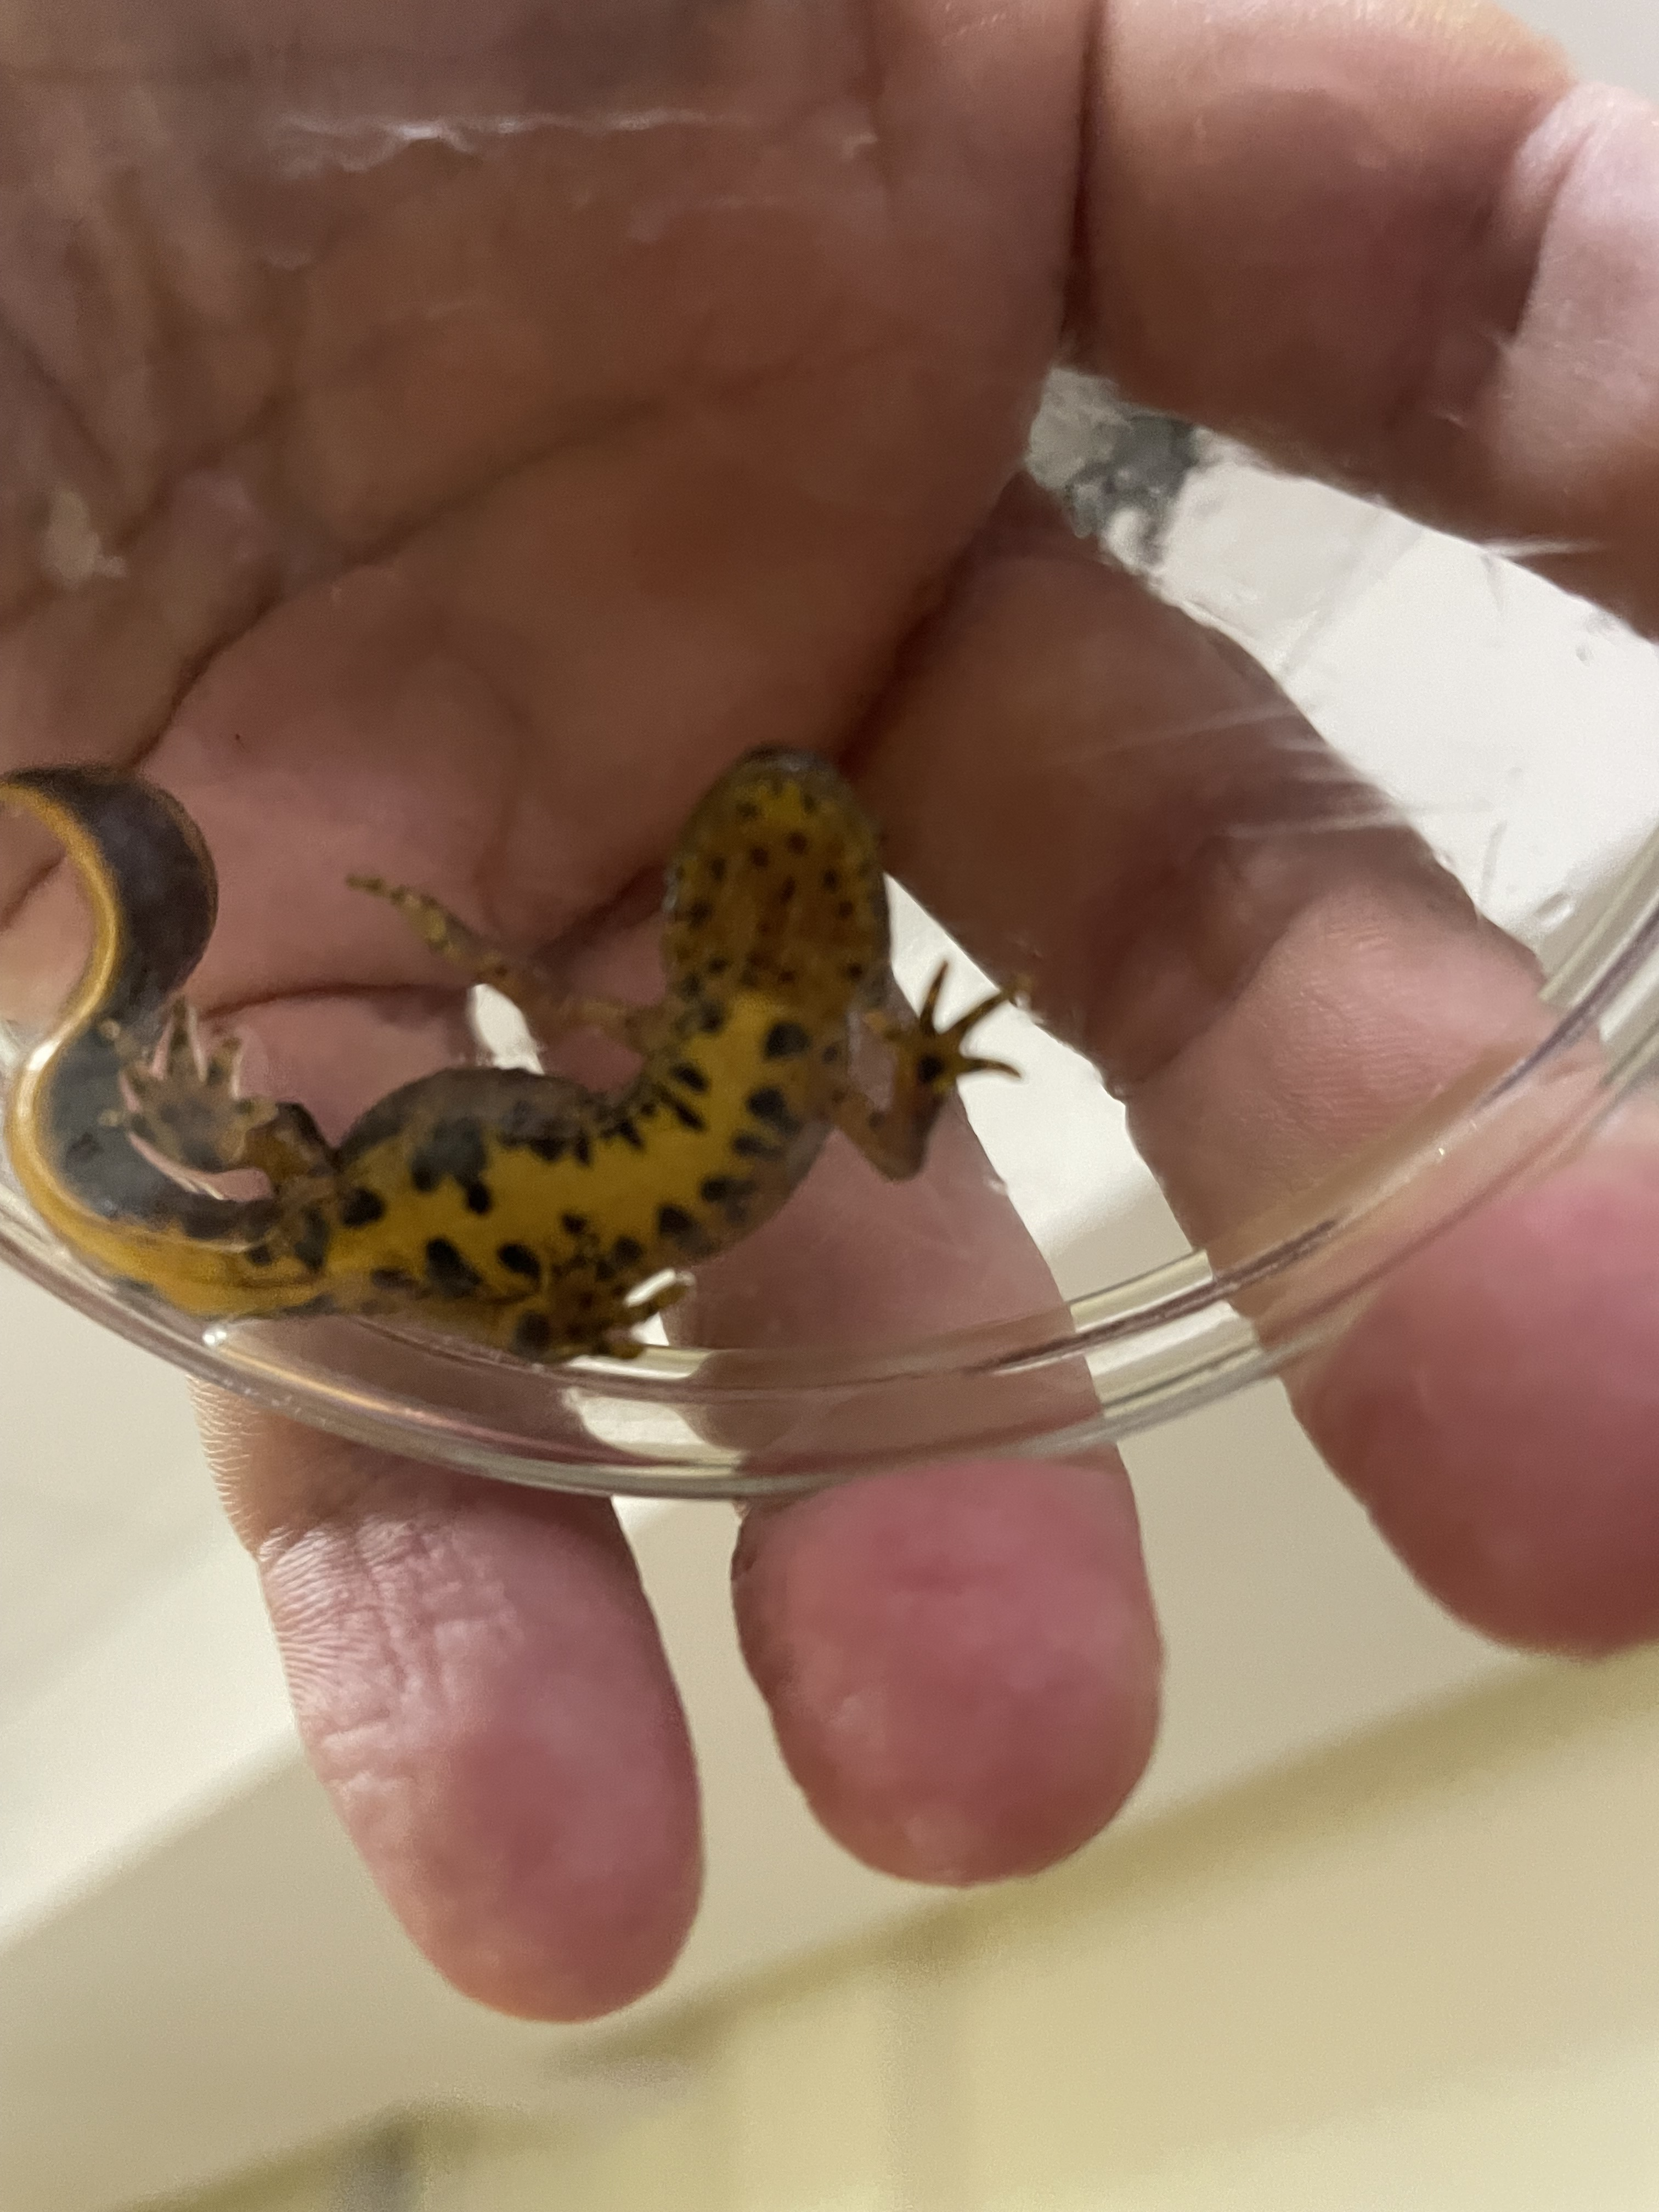Karelin_newt: (336, 1054, 835, 1298)
